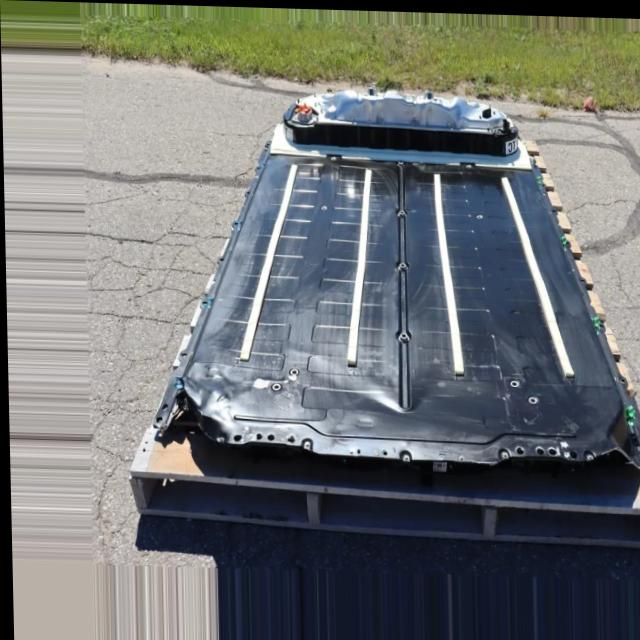Nut: (395, 320, 411, 353), (394, 154, 404, 176), (393, 205, 406, 220), (396, 257, 405, 271)
Screw: (520, 387, 539, 411), (470, 208, 484, 231), (266, 378, 279, 401), (284, 365, 298, 385), (505, 370, 518, 388), (319, 201, 328, 213)
